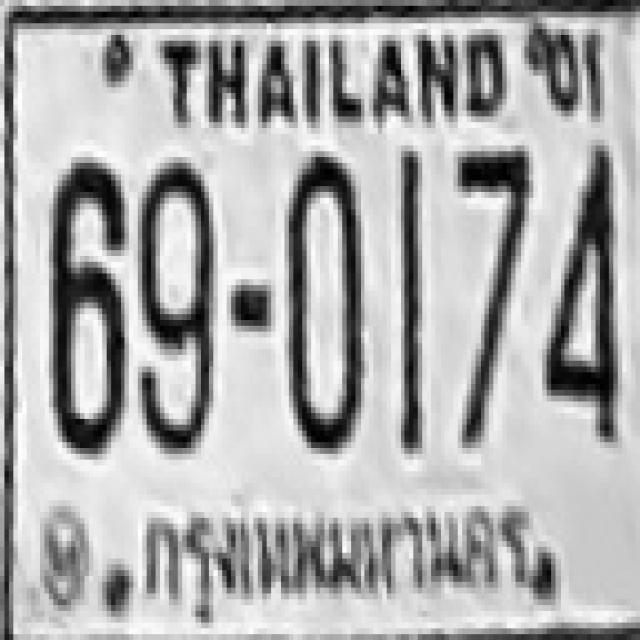0: (284, 151, 360, 448)
4: (540, 143, 616, 439)
6: (51, 160, 127, 451)
7: (453, 145, 529, 419), (453, 146, 529, 344)
9: (138, 160, 218, 451)
Bangkok: (127, 494, 539, 628)
